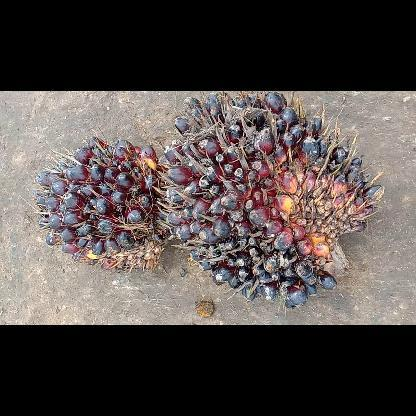TBS mentah: (163, 92, 381, 304), (38, 140, 168, 272)
